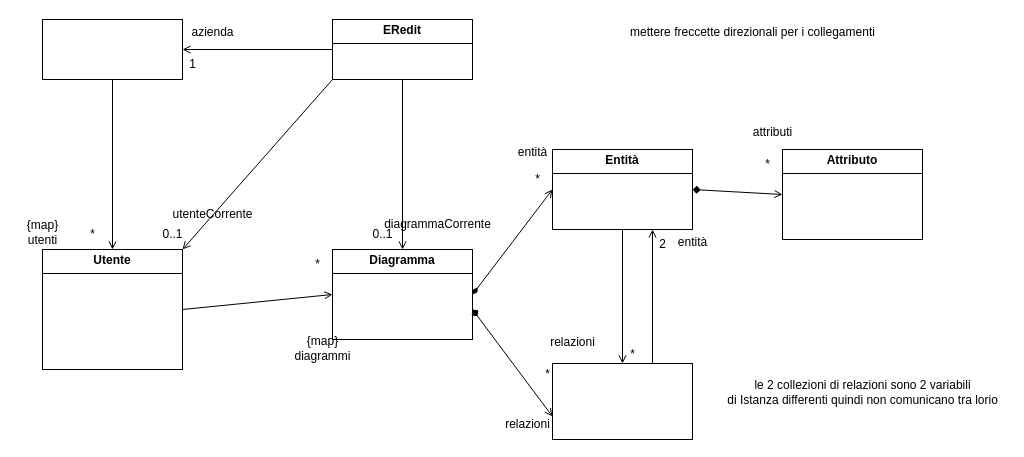
Image size: 1024x457. Some labels were removed from this diagram. The centre of each missing label's shape, as x and y in pixels:
"Azienda 1" goes at point (112, 49).
"Relazione" goes at point (622, 401).
